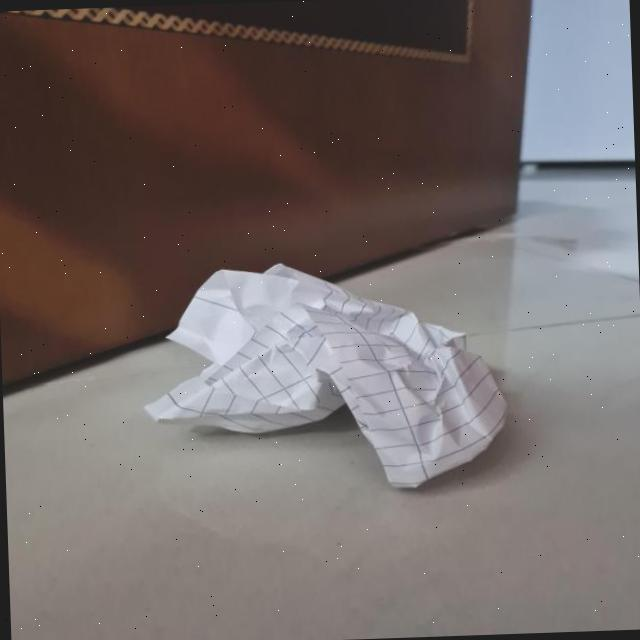trash: (152, 250, 514, 501)
